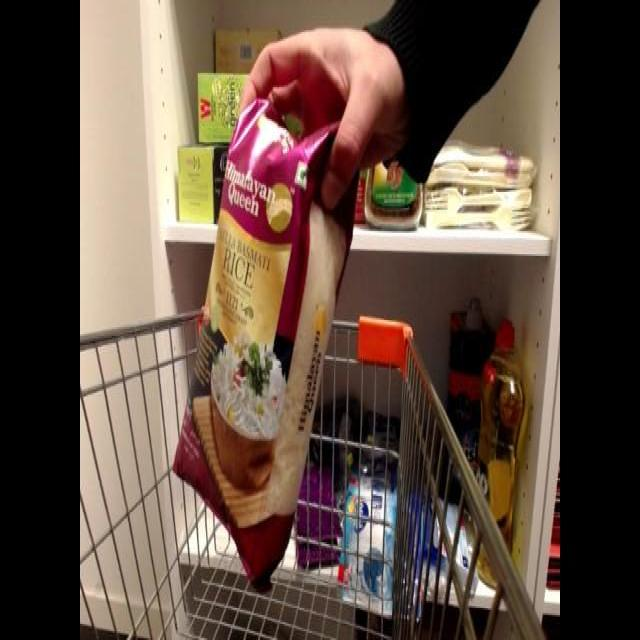Basmati Rice: (169, 96, 370, 594)
